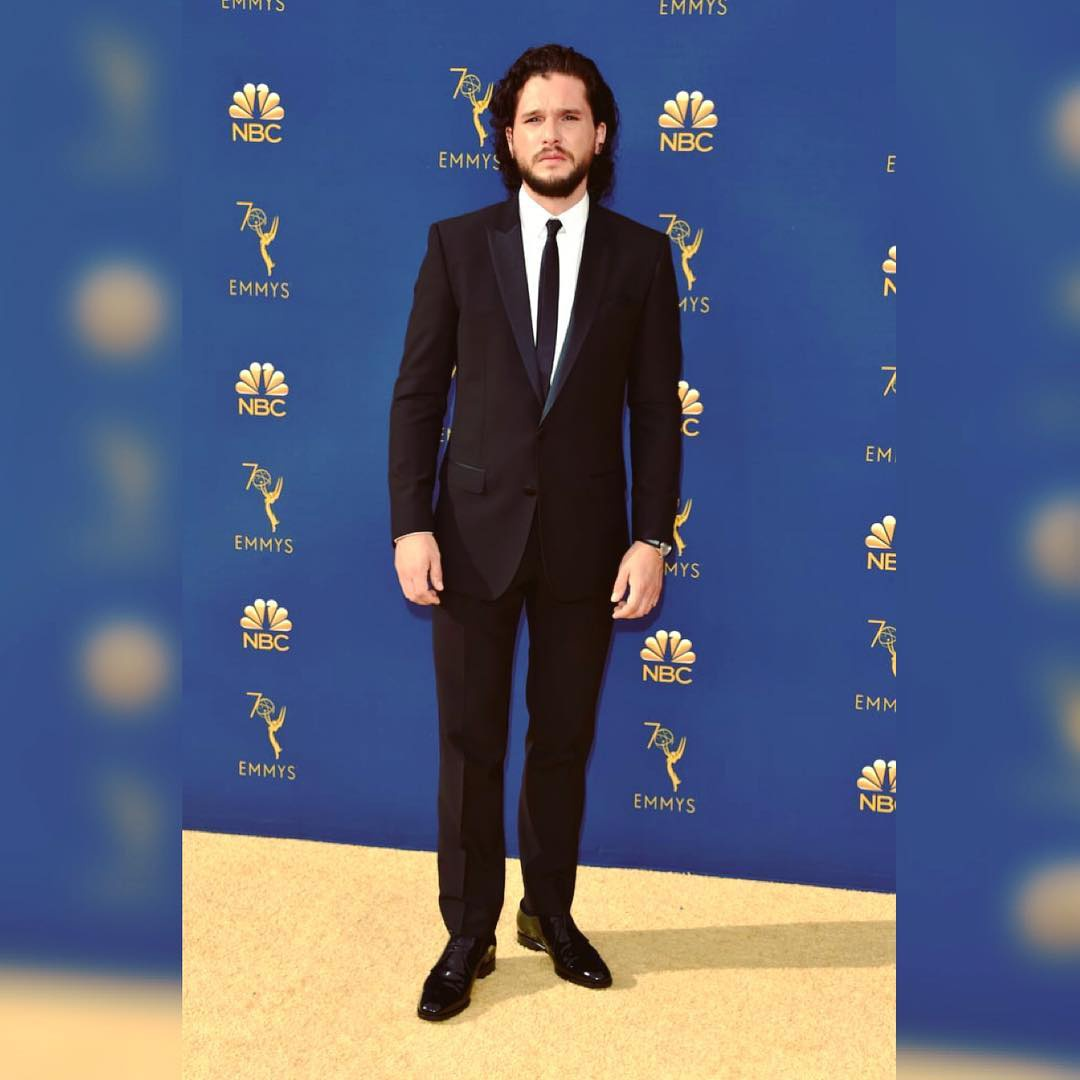hand: (611, 540, 665, 615)
